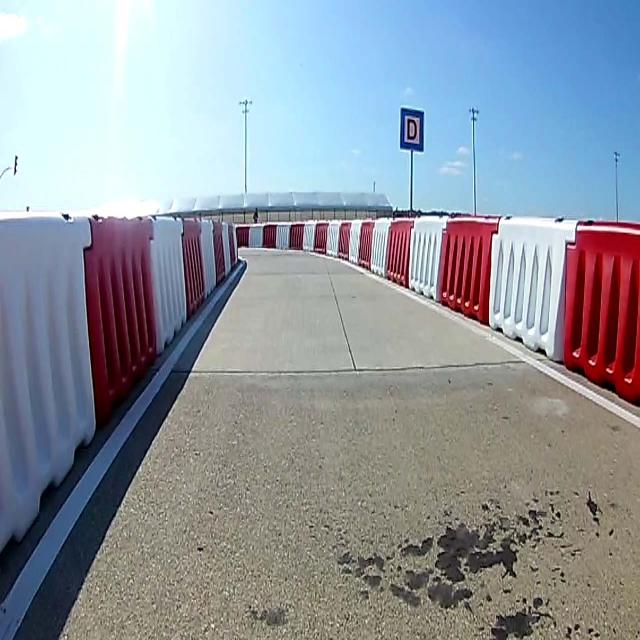durak: (398, 108, 425, 152)
